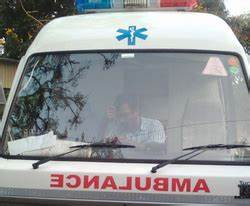ambulance: (12, 9, 238, 201)
